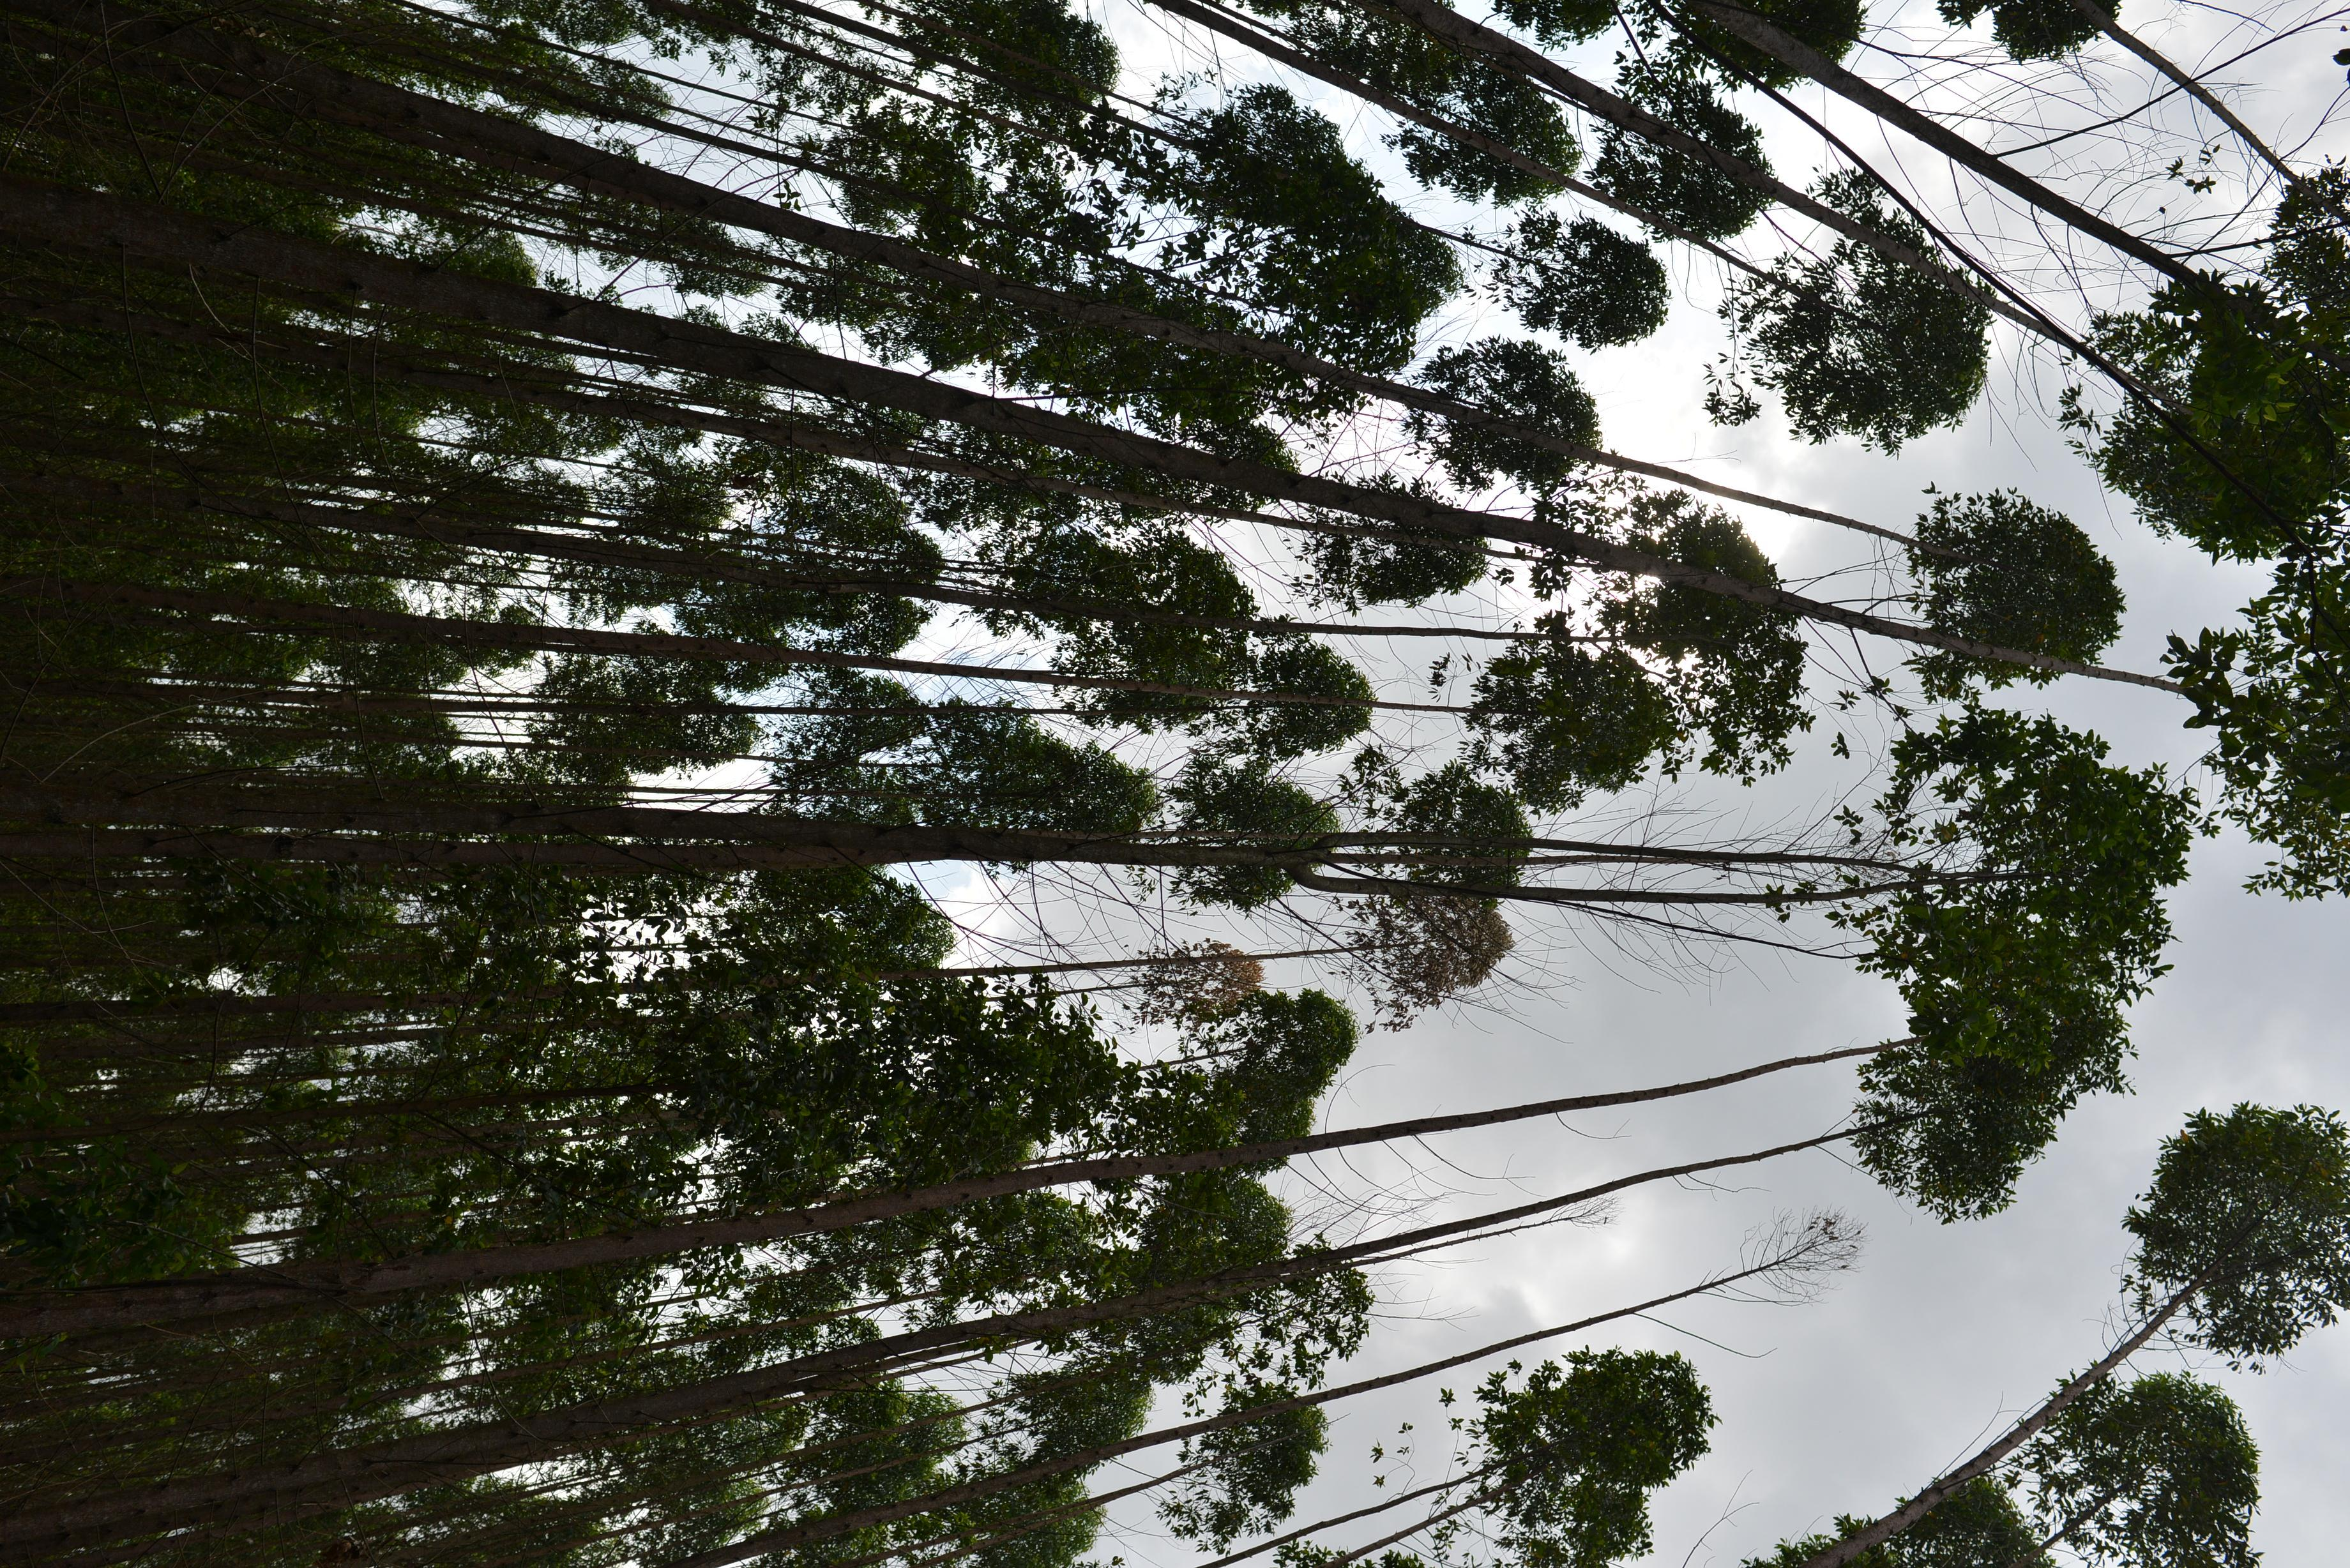Wither Tree Parts: (1342, 882, 1503, 1015), (1718, 1192, 1881, 1309), (1130, 940, 1253, 1010)
